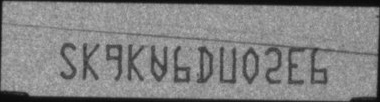2: (264, 46, 282, 84)
6: (172, 44, 191, 83), (310, 45, 328, 84)
9: (104, 43, 123, 82)
D: (195, 46, 214, 83)
E: (288, 45, 306, 85)
K: (82, 41, 101, 80), (126, 43, 145, 81)
O: (241, 47, 258, 85)
S: (59, 41, 78, 80)
U: (219, 45, 237, 83)
V: (150, 44, 168, 82)
